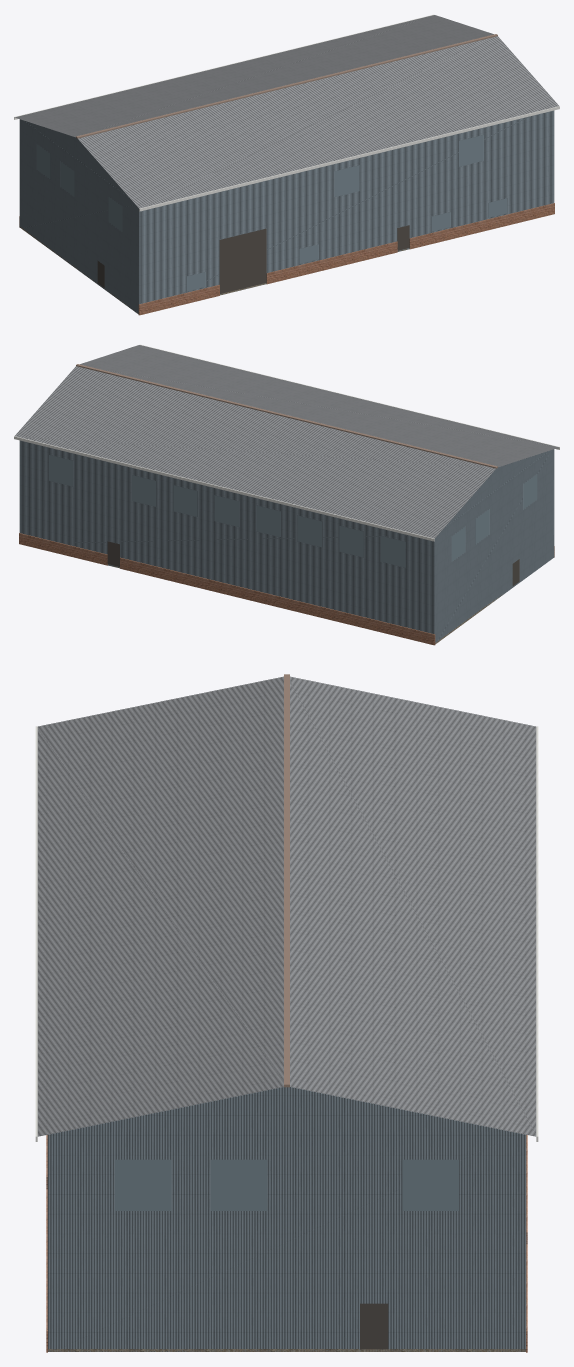
The model's file is ew-turbine-hall.works-v2.lod1.glb.
3 views of the same model, one above another, from view 1: azimuth 30°, elevation 25°; view 2: azimuth 150°, elevation 25°; view 3: azimuth 270°, elevation 25° (orthographic). The views are drawn at different scales.
Parts seen in each view (by area): view 1: ew-turbine-hall; view 2: ew-turbine-hall; view 3: ew-turbine-hall.
Part boxes in pixels (bbox=[...]): ew-turbine-hall: bbox=[14, 14, 559, 315]; ew-turbine-hall: bbox=[14, 344, 559, 645]; ew-turbine-hall: bbox=[35, 674, 538, 1352].
Size of the model in its own units: 44.6 by 13.69 by 23.08.
Materials: 5 (4 with a texture image).
